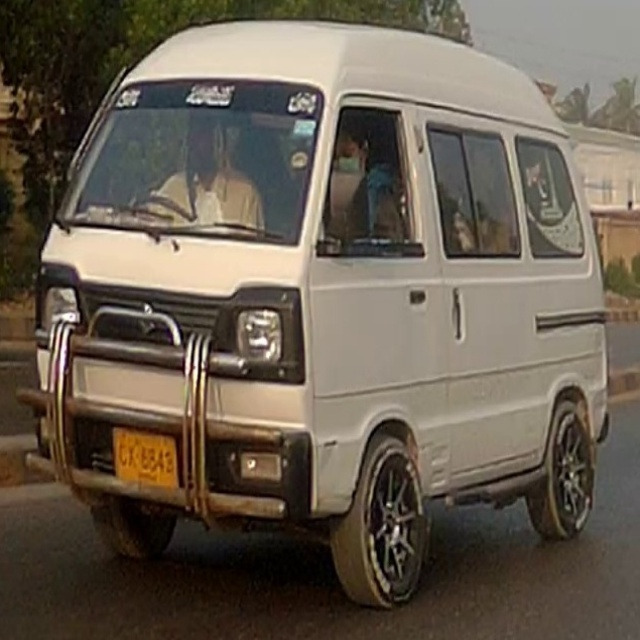Van: (16, 20, 613, 608)
